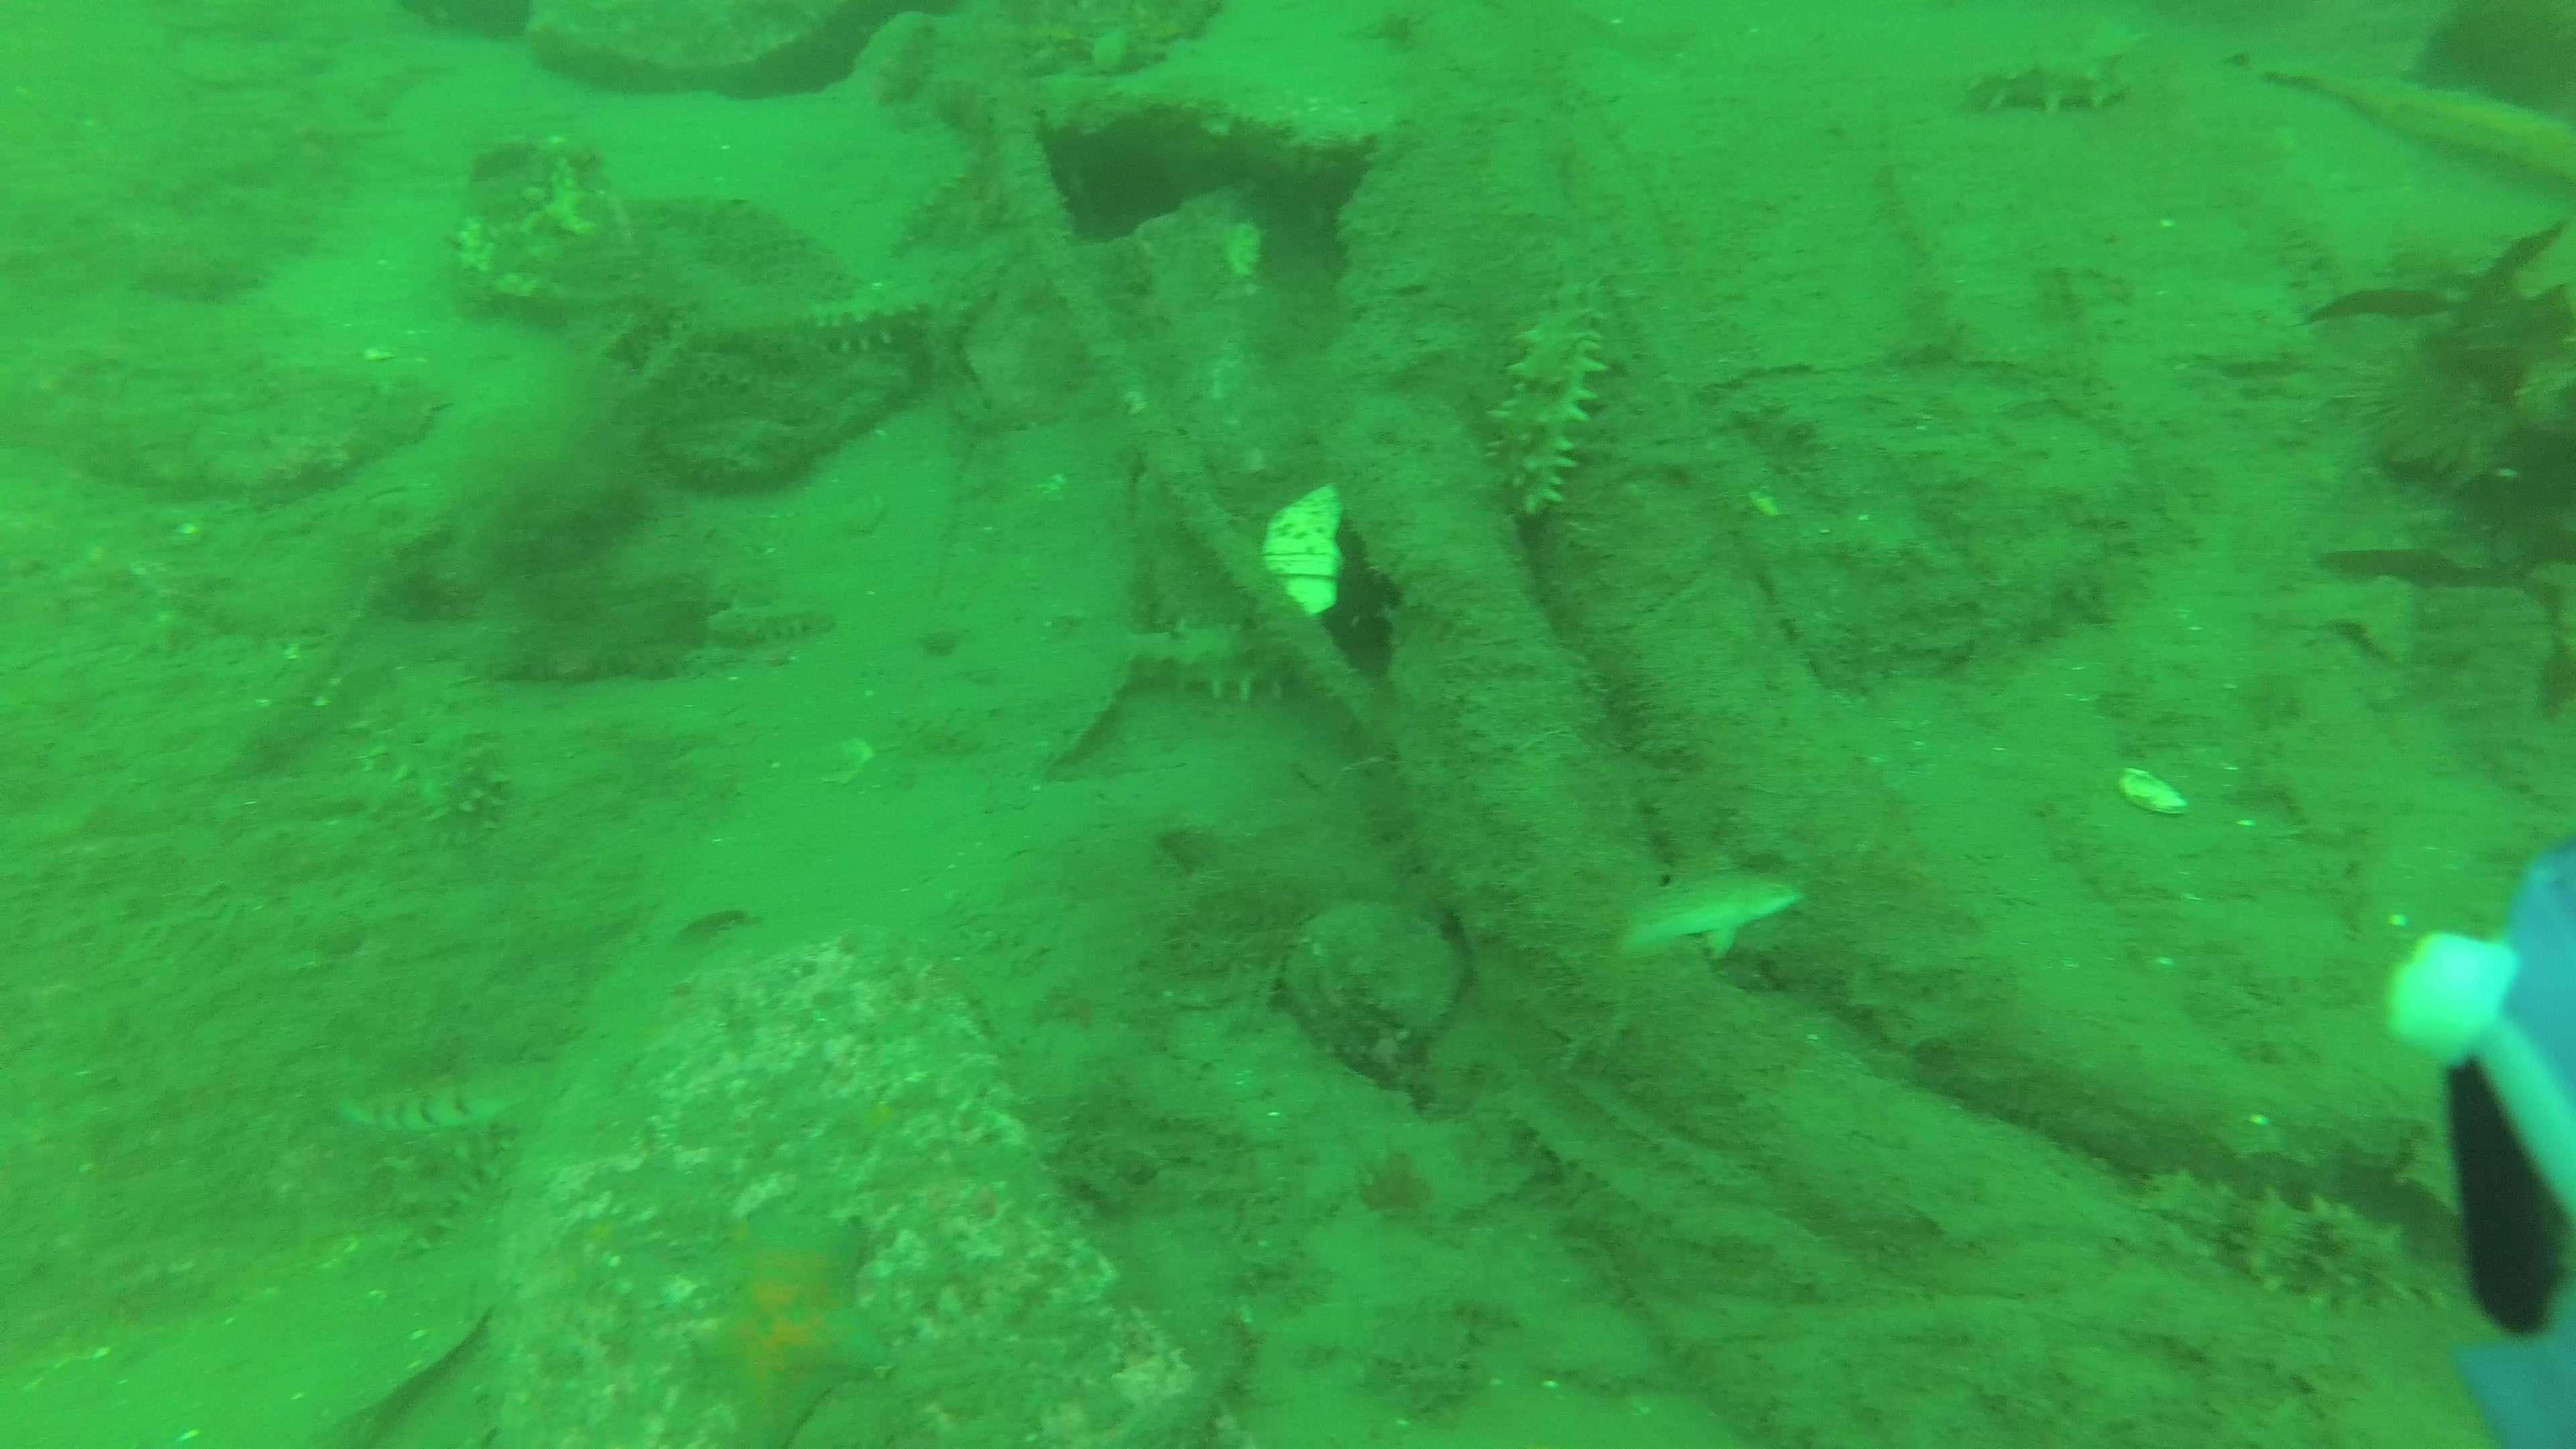echinus: (2348, 338, 2519, 494)
holothurian: (1483, 274, 1619, 522), (2213, 1182, 2452, 1318), (364, 704, 522, 860), (1104, 610, 1309, 711), (377, 1111, 518, 1253), (745, 280, 945, 361), (1964, 50, 2139, 117), (695, 594, 851, 648)
starfish: (672, 1205, 908, 1449)
